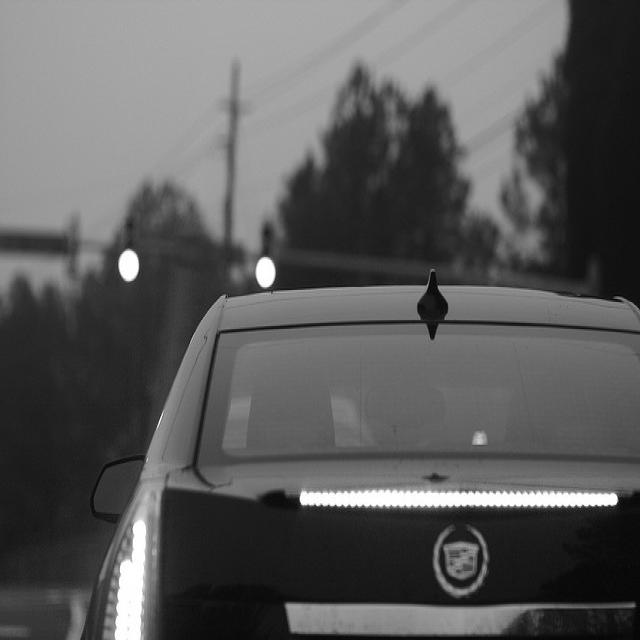Vehicle: (76, 282, 638, 627)
